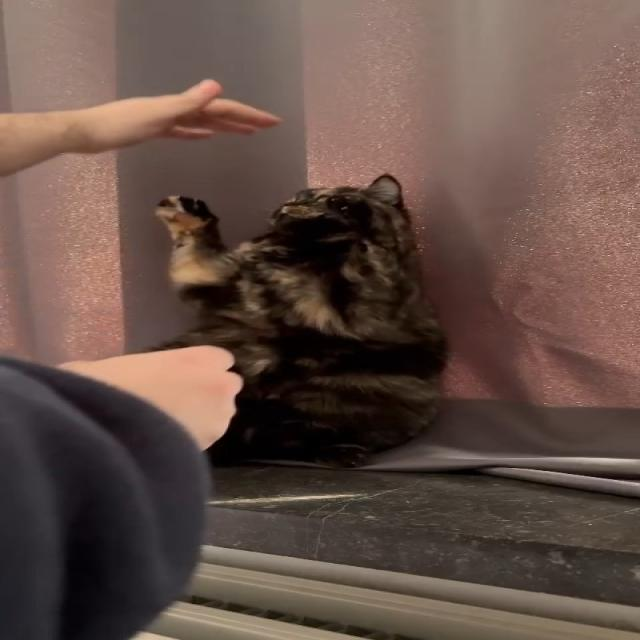authorized: (144, 172, 451, 469)
